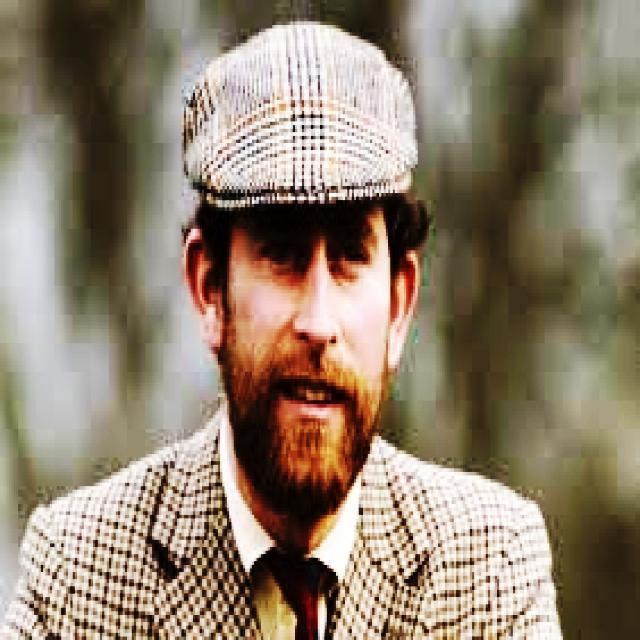TOPI: (175, 18, 422, 211)
